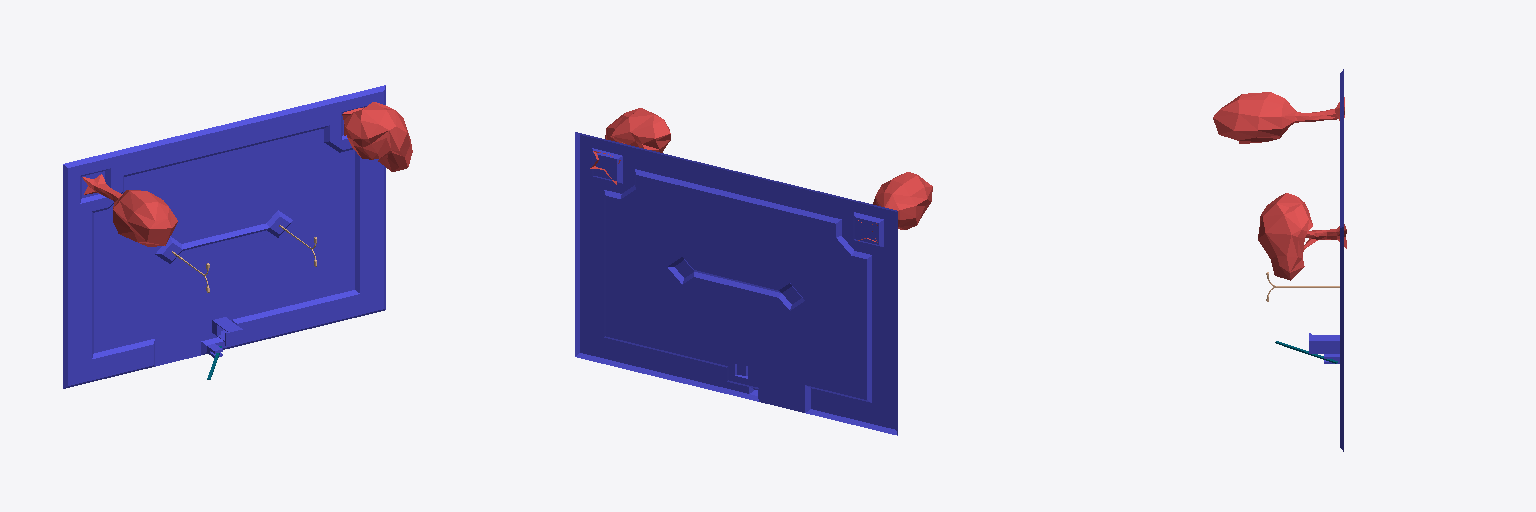
File: Parking_lot.obj
3 views of the same model, side by side, from view 1: azimuth 30°, elevation 25°; view 2: azimuth 150°, elevation 25°; view 3: azimuth 270°, elevation 25° (orthographic).
Visible parts, largest first — view 1: Plane002, Tree_004, Box010; view 2: Plane002, Box010, Tree_004; view 3: Tree_004, Box010, Plane002.
Part boxes in pixels (bbox=[...]): Plane002: bbox=[63, 85, 385, 388]; Tree_004: bbox=[342, 102, 412, 171]; Box010: bbox=[82, 174, 177, 246]; Plane002: bbox=[575, 132, 897, 435]; Box010: bbox=[858, 172, 932, 242]; Tree_004: bbox=[590, 108, 670, 184]; Tree_004: bbox=[1258, 193, 1346, 280]; Box010: bbox=[1213, 92, 1344, 143]; Plane002: bbox=[1309, 69, 1343, 451].
Bounding box in the file's own units: 375 × 260 × 135.